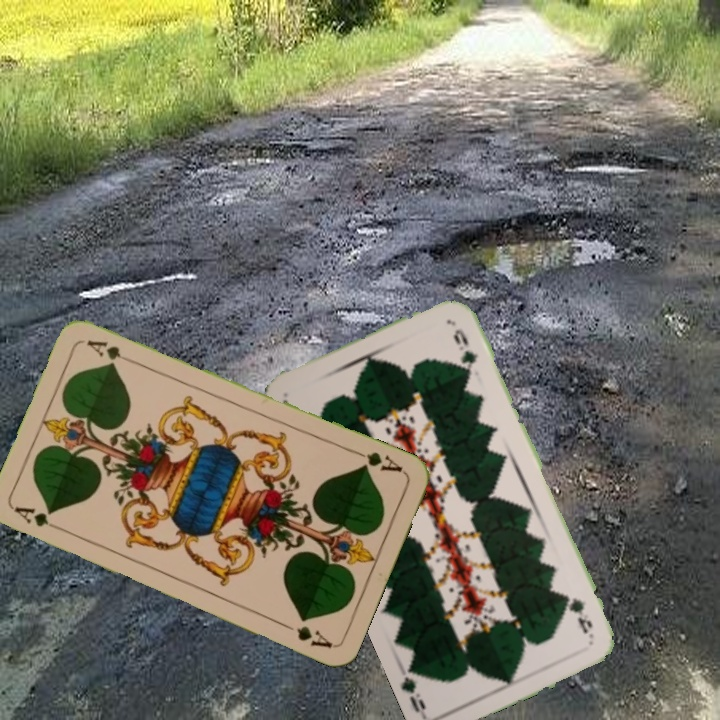G9: (562, 591, 597, 641)
GA: (10, 502, 67, 534), (350, 446, 405, 476)
